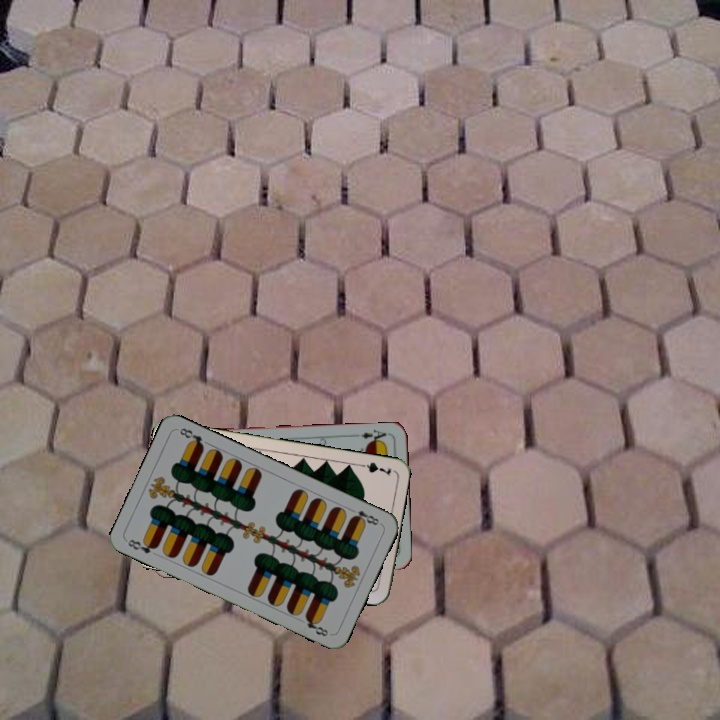E8: (345, 504, 382, 528), (124, 535, 160, 556)
EA: (357, 426, 388, 446)
G7: (354, 458, 394, 478)
